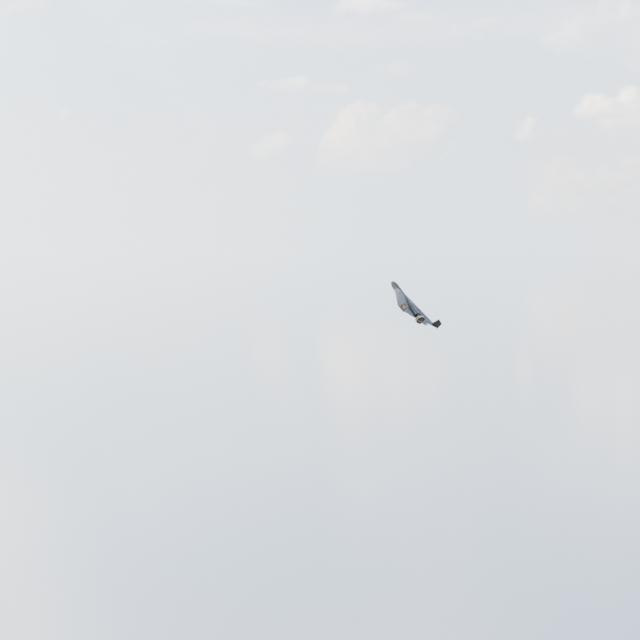Airaplan: (391, 281, 442, 329)
